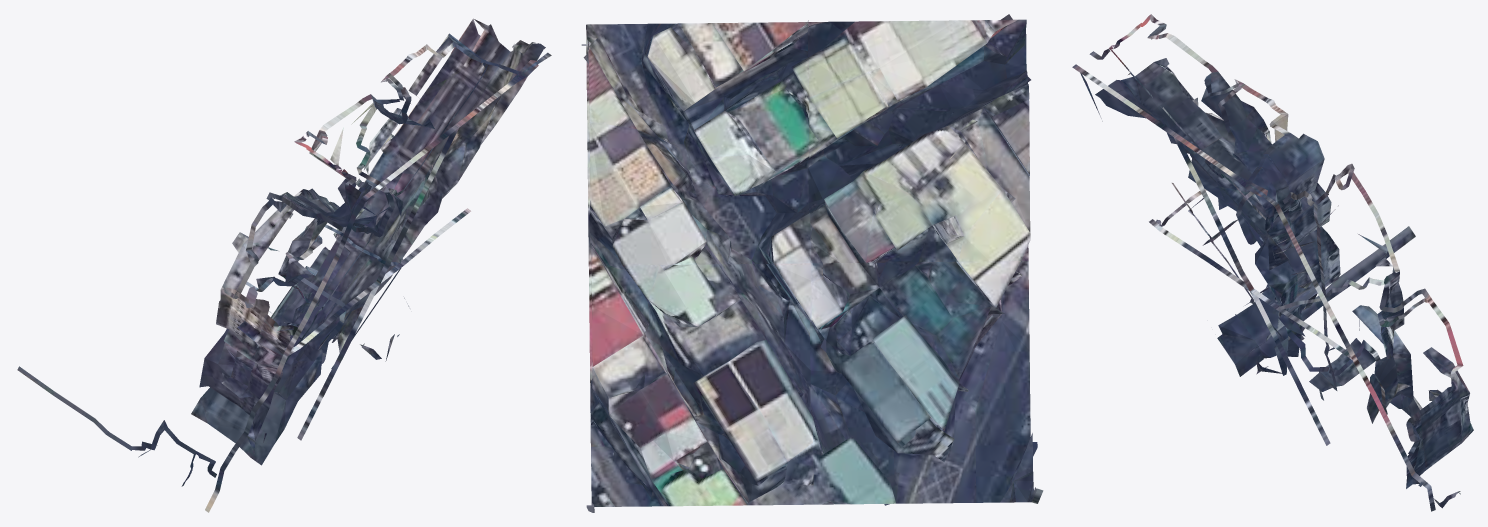
3 views of the same model, side by side, from view 1: azimuth 30°, elevation 25°; view 2: azimuth 150°, elevation 25°; view 3: azimuth 270°, elevation 25° (orthographic). The views are drawn at different scales.
Size of the model in its own units: 96.93 by 76.6 by 71.96.
Materials: 1 (1 with a texture image).
